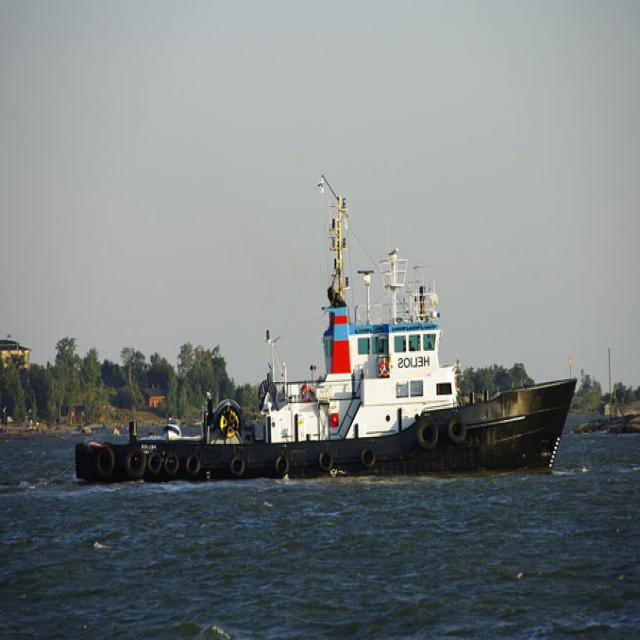fishing boat: (64, 186, 574, 484)
